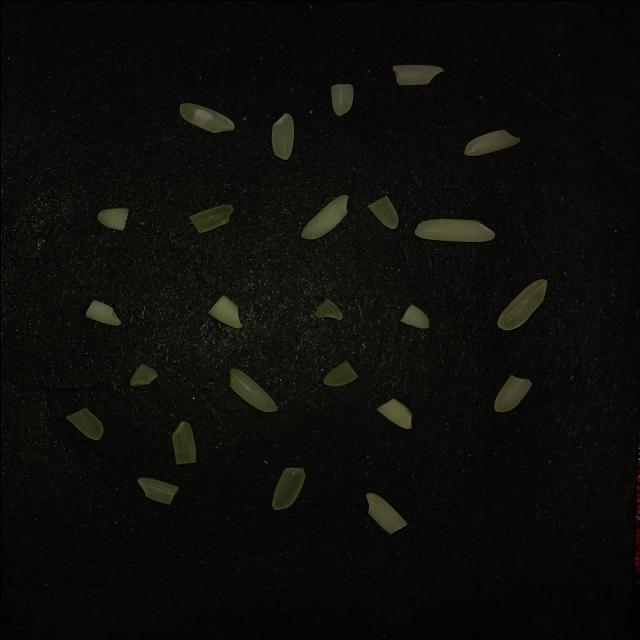Broken: (364, 492, 406, 534), (493, 374, 531, 412), (271, 466, 305, 508), (188, 203, 233, 233), (64, 406, 102, 439), (136, 476, 178, 504), (207, 294, 241, 328), (170, 420, 196, 464), (391, 63, 443, 85), (366, 194, 398, 228), (375, 398, 411, 428), (84, 299, 120, 325), (323, 360, 358, 386), (399, 302, 429, 328), (96, 207, 128, 230), (329, 82, 352, 114), (312, 298, 342, 320), (129, 363, 157, 385)
Full: (496, 278, 546, 330), (300, 193, 348, 240), (228, 367, 276, 412), (414, 218, 494, 242), (178, 101, 234, 132), (463, 128, 519, 155), (270, 112, 292, 160)
